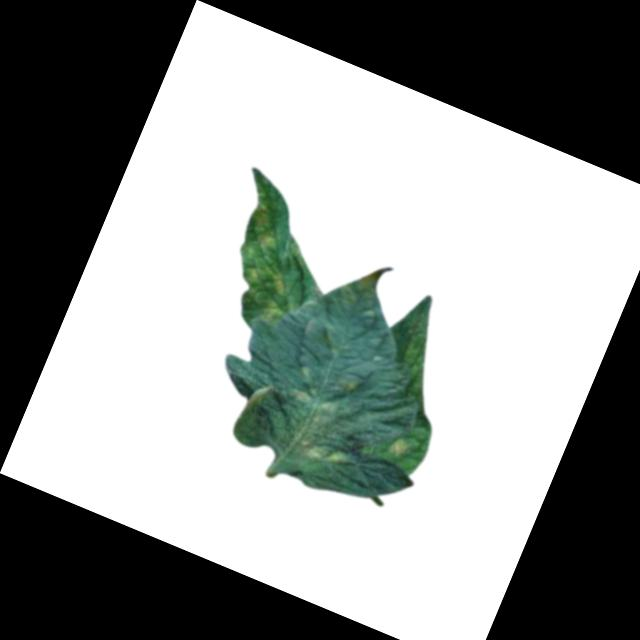Leaf_Mold: (212, 181, 335, 334), (266, 381, 369, 476), (382, 431, 412, 463)
